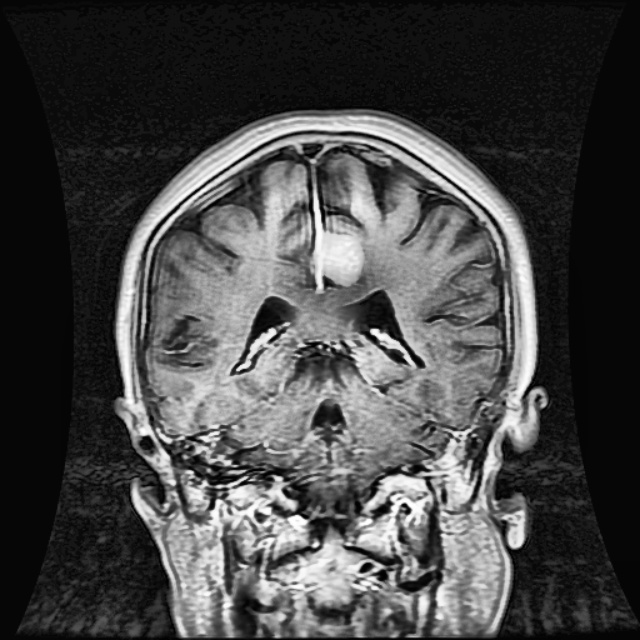Glioma: (313, 229, 363, 284)
